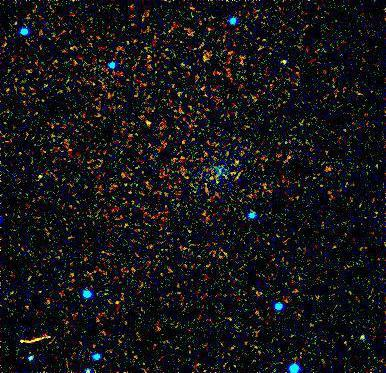star: (271, 44, 301, 74)
